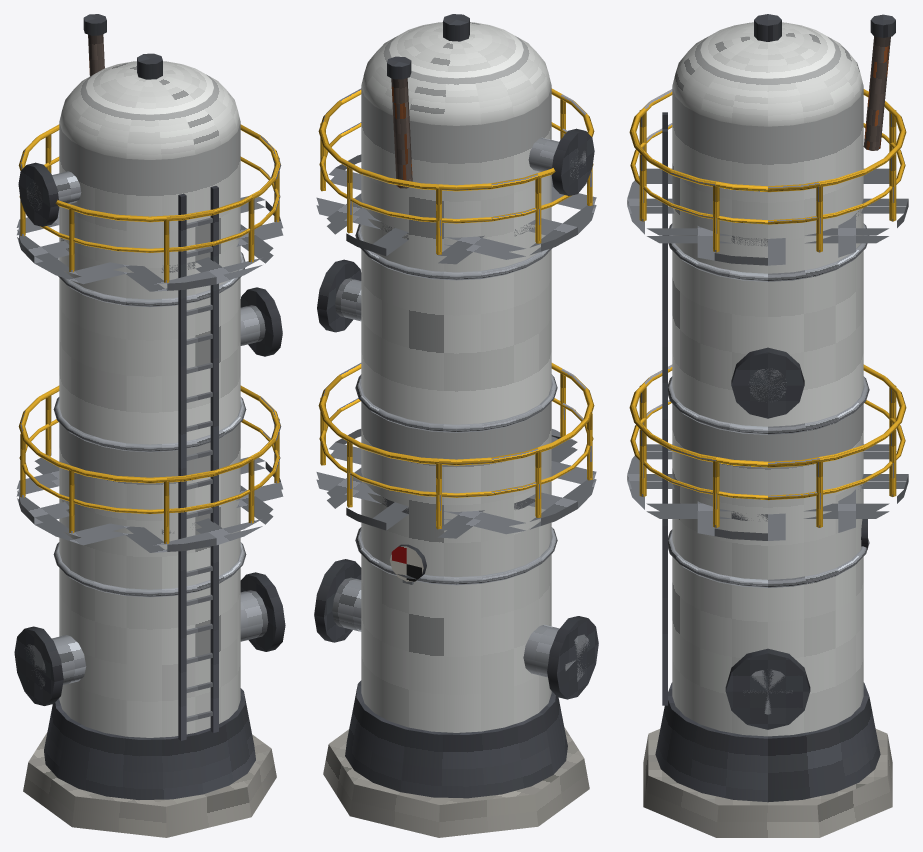
Rendered from refinery.obj.
3 views of the same model, side by side, from view 1: azimuth 30°, elevation 25°; view 2: azimuth 150°, elevation 25°; view 3: azimuth 270°, elevation 25° (orthographic). The views are drawn at different scales.
Size of the model in its own units: 0.3333 by 1 by 0.3333.
